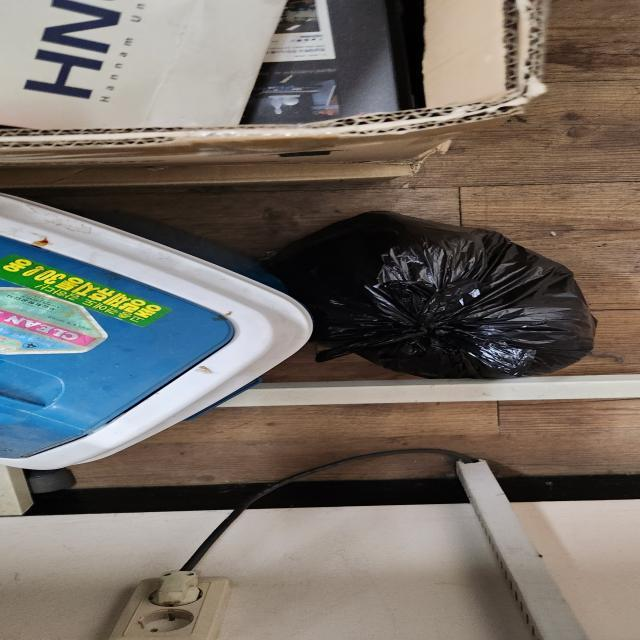black_bag: (255, 211, 595, 382)
